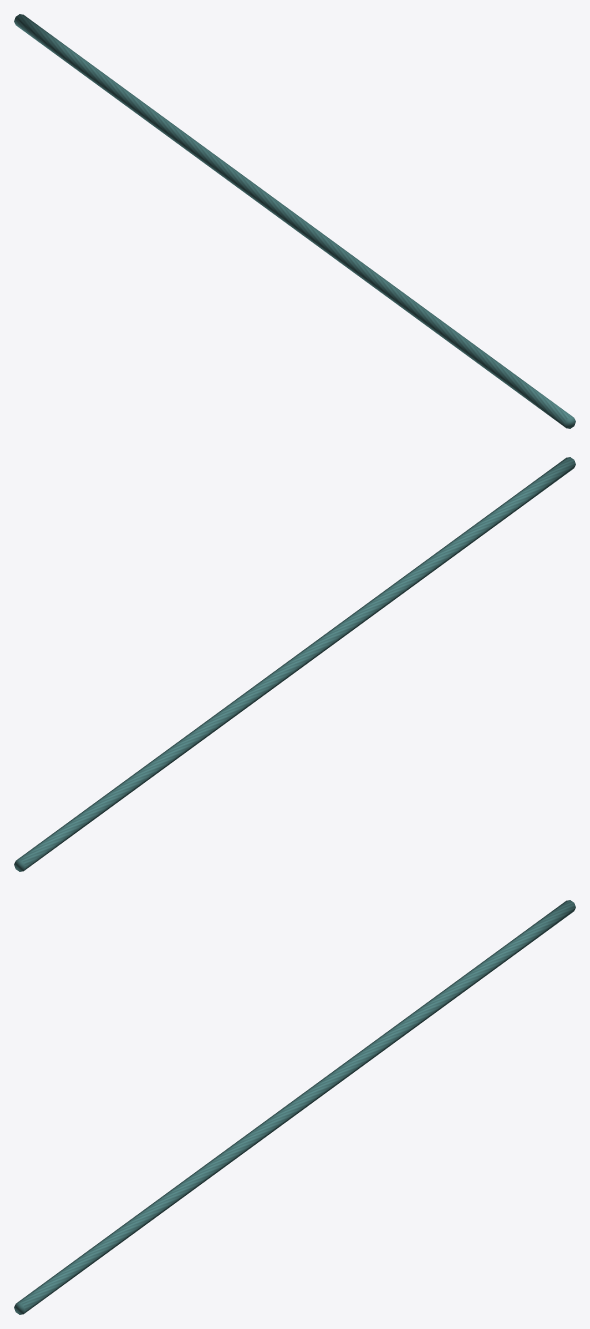
File: KH_LeashRope.fbx
3 renders of one model, top to bottom at view 1: azimuth 30°, elevation 25°; view 2: azimuth 150°, elevation 25°; view 3: azimuth 330°, elevation 25°, orthographic.
Parts seen in each view (by area): view 1: KH_LeashRope; view 2: KH_LeashRope; view 3: KH_LeashRope.
Boxes of the visible parts, left/top/right/bottom form: KH_LeashRope: left=14, top=14, right=575, bottom=428; KH_LeashRope: left=14, top=457, right=575, bottom=871; KH_LeashRope: left=14, top=900, right=575, bottom=1314.
Size of the model in its own units: 0.012 by 0.012 by 1.
1 material, 1 textured.
